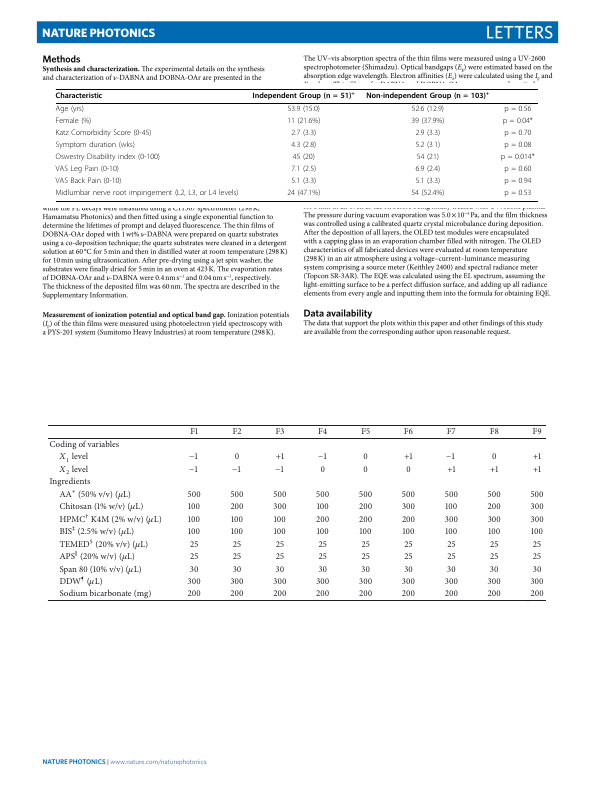borderless: (46, 423, 546, 600), (54, 88, 538, 201)
cell: (58, 510, 163, 527), (55, 189, 239, 198), (58, 536, 149, 552), (365, 90, 490, 101), (58, 499, 144, 514), (58, 561, 143, 576), (58, 548, 136, 564), (58, 523, 135, 539), (58, 486, 132, 502), (252, 90, 356, 101), (55, 153, 161, 163), (58, 589, 152, 600), (55, 129, 152, 139), (55, 141, 136, 151), (58, 573, 104, 589), (48, 440, 120, 450), (55, 177, 122, 186), (55, 165, 120, 174), (58, 461, 89, 478), (58, 449, 89, 465), (48, 477, 91, 488), (55, 92, 103, 101), (55, 117, 92, 127), (500, 153, 536, 163), (286, 105, 321, 115), (286, 117, 321, 127), (410, 117, 445, 127), (411, 105, 445, 115), (502, 117, 534, 127), (286, 189, 321, 198), (410, 189, 445, 198), (55, 105, 85, 115), (503, 105, 532, 115), (503, 129, 532, 139), (503, 141, 532, 151), (290, 129, 317, 139), (414, 129, 441, 139), (290, 141, 317, 151), (414, 141, 441, 151), (503, 165, 532, 174), (503, 177, 532, 186), (503, 189, 532, 198), (290, 165, 317, 174), (414, 165, 441, 174), (290, 177, 317, 186), (414, 177, 441, 186), (292, 153, 316, 163), (416, 153, 440, 163), (188, 461, 200, 477), (231, 461, 243, 477), (274, 461, 286, 477), (188, 449, 200, 464), (317, 449, 329, 464), (229, 502, 245, 513), (229, 589, 245, 600), (446, 449, 457, 464), (272, 502, 287, 513), (358, 502, 373, 513), (401, 502, 416, 513), (487, 502, 502, 513), (530, 502, 545, 513), (315, 514, 330, 525), (358, 514, 373, 525), (401, 514, 416, 525), (444, 514, 459, 525), (487, 514, 502, 525), (530, 514, 545, 525), (187, 589, 202, 600), (272, 589, 287, 600), (315, 589, 330, 600), (358, 589, 373, 600), (401, 589, 416, 600), (444, 589, 459, 600), (487, 589, 502, 600), (530, 589, 545, 600), (229, 490, 245, 500), (229, 577, 245, 587), (187, 502, 201, 513), (316, 502, 330, 513), (444, 502, 458, 513), (187, 514, 201, 525), (230, 514, 244, 525), (273, 514, 287, 525), (187, 527, 201, 538), (230, 527, 244, 538), (273, 527, 287, 538), (316, 527, 330, 538), (359, 527, 373, 538), (401, 527, 415, 538), (444, 527, 458, 538), (487, 527, 501, 538), (530, 527, 544, 538), (187, 490, 202, 500), (272, 490, 287, 500), (315, 490, 330, 500), (358, 490, 373, 500), (401, 490, 416, 500), (444, 490, 459, 500), (487, 490, 502, 500), (530, 490, 545, 500), (187, 577, 202, 587), (272, 577, 287, 587), (315, 577, 330, 587), (358, 577, 373, 587), (401, 577, 416, 587), (444, 577, 459, 587), (487, 577, 502, 587), (530, 577, 545, 587), (274, 427, 285, 438), (317, 427, 328, 438), (360, 427, 371, 438), (403, 427, 414, 438), (446, 427, 457, 438), (489, 427, 500, 438), (532, 427, 543, 438), (403, 452, 414, 463), (360, 539, 371, 550), (403, 539, 414, 550), (446, 539, 457, 550), (317, 564, 328, 575), (360, 564, 371, 575), (403, 564, 414, 575), (446, 564, 457, 575), (189, 427, 199, 438), (232, 427, 242, 438), (275, 452, 285, 463), (532, 452, 542, 463), (189, 539, 199, 550), (232, 539, 242, 550), (275, 539, 285, 550), (318, 539, 328, 550), (489, 539, 499, 550), (532, 539, 542, 550), (360, 552, 371, 562), (403, 552, 414, 562), (446, 552, 457, 562), (189, 564, 199, 575), (232, 564, 242, 575), (275, 564, 285, 575), (489, 564, 499, 575), (532, 564, 542, 575), (446, 465, 456, 475), (489, 465, 499, 475), (532, 465, 542, 475), (189, 552, 199, 562), (232, 552, 242, 562), (275, 552, 285, 562), (318, 552, 328, 562), (489, 552, 499, 562), (532, 552, 542, 562), (362, 452, 369, 463), (362, 465, 369, 475), (405, 465, 412, 475), (234, 452, 240, 463), (491, 452, 497, 463), (320, 465, 326, 475)
